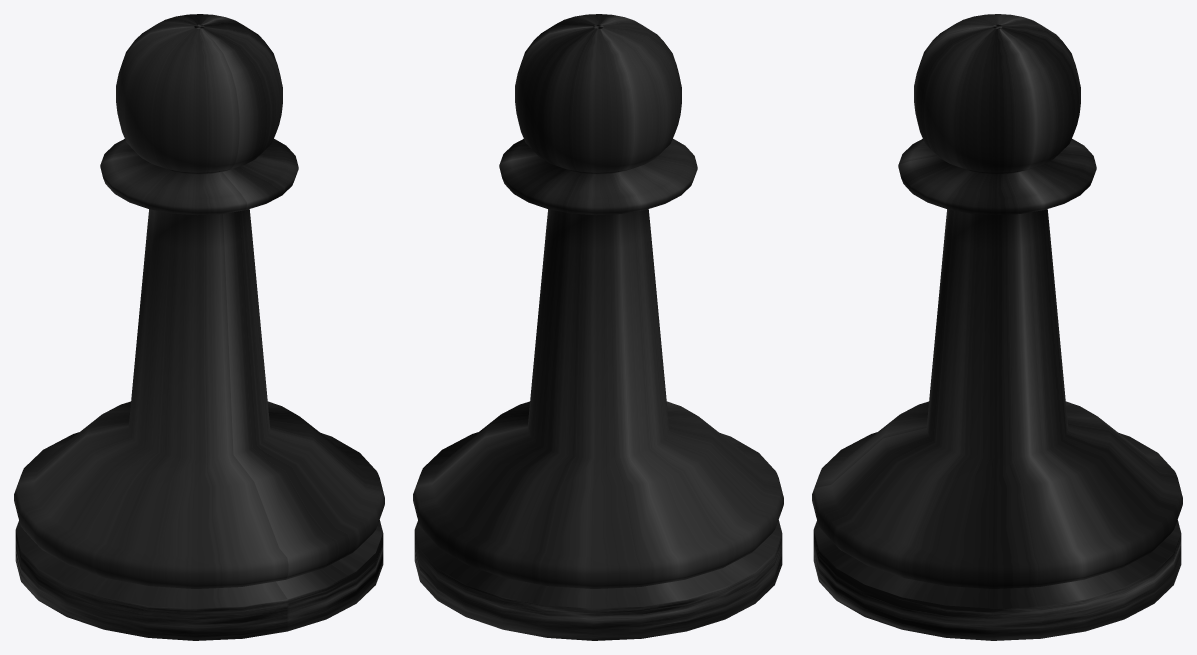
File: black_pawn.obj
3 views of the same model, side by side, from view 1: azimuth 30°, elevation 25°; view 2: azimuth 150°, elevation 25°; view 3: azimuth 270°, elevation 25° (orthographic).
Visible parts, largest first — view 1: Pawn.001_Cylinder.010; view 2: Pawn.001_Cylinder.010; view 3: Pawn.001_Cylinder.010.
Boxes of the visible parts, <box> form: Pawn.001_Cylinder.010: <box>14,14,384,640</box>; Pawn.001_Cylinder.010: <box>413,14,783,640</box>; Pawn.001_Cylinder.010: <box>812,14,1182,640</box>.
Bounding box in the file's own units: 1.51 × 2.42 × 1.51.
1 material, 1 textured.
